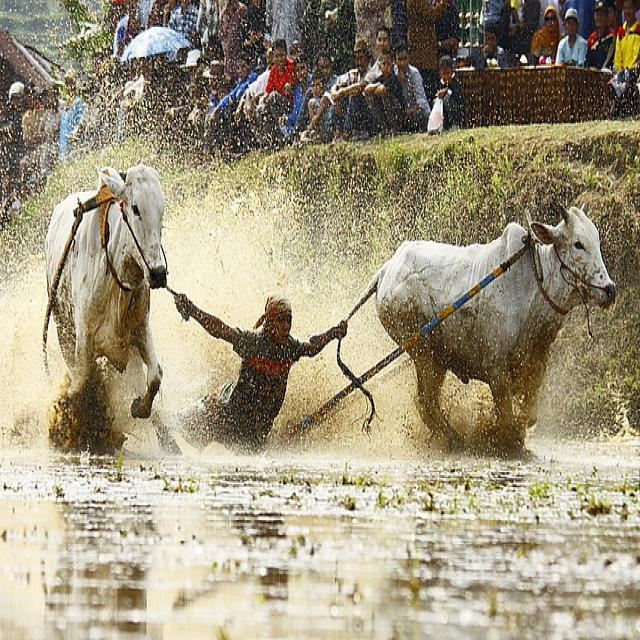cow: (336, 202, 614, 432), (44, 165, 167, 421)
